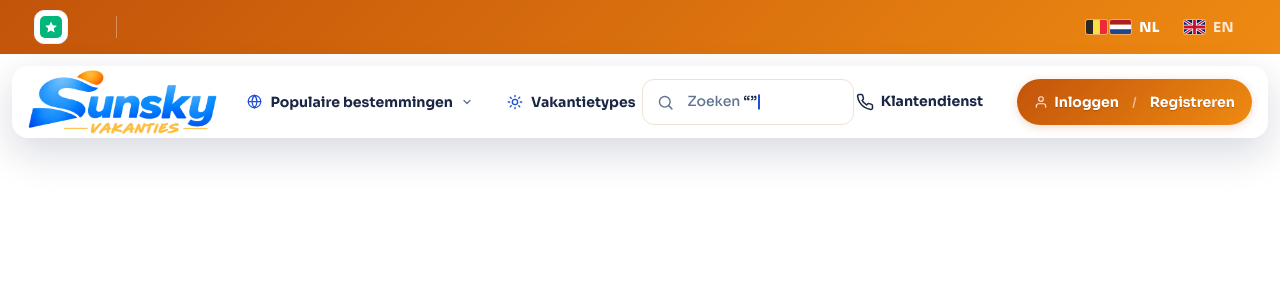
menus (version 2) › the homepage source can drop the group sub-labels and cap the list
Click the button "Populaire bestemmingen" at (360, 102), box [243,83,477,121]
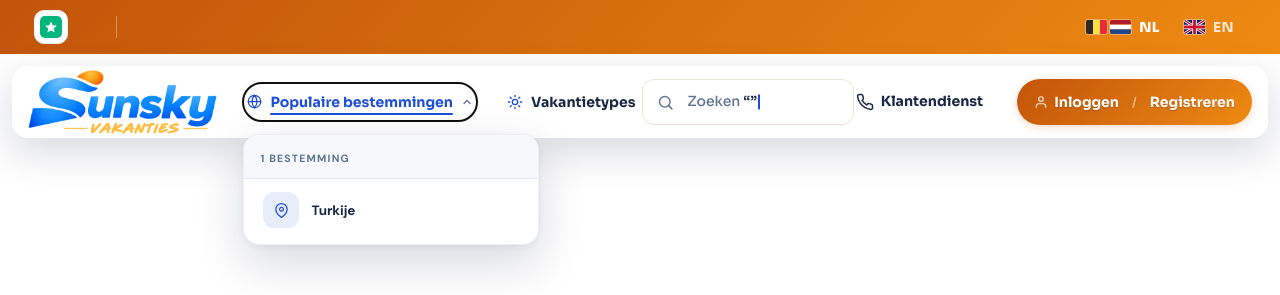
Now the text "1 bestemming" is shown, box [260,152,350,165]
